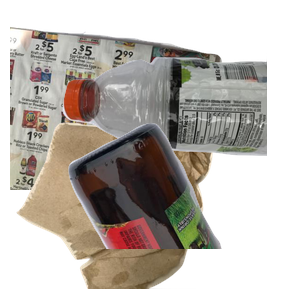glass: (66, 120, 300, 300)
paper: (10, 22, 225, 202)
plastic: (60, 53, 300, 201)
trash: (14, 120, 222, 300)
